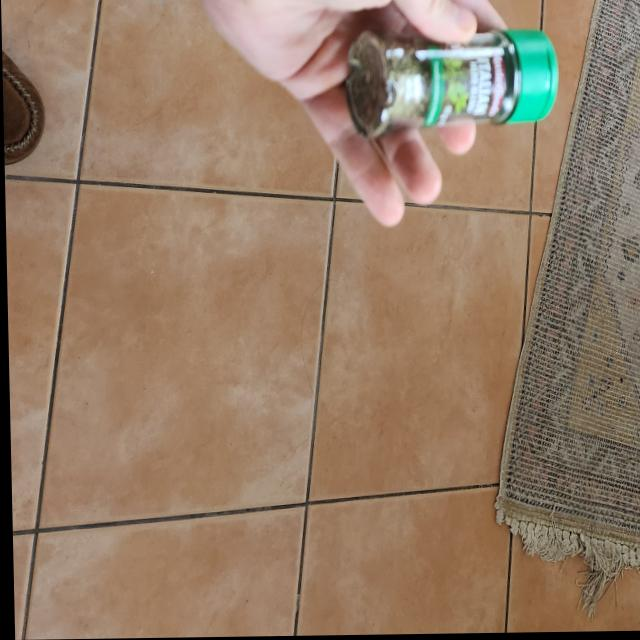italian herbs: (339, 26, 559, 140)
